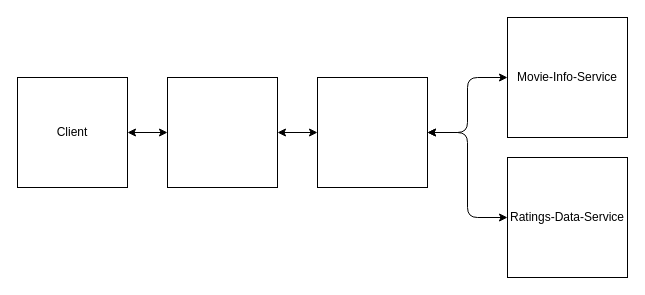
This 645x295 diagram has some shape labels left out. The box of each missing label's shape, as (x1, y1, x2, y2) in pixels:
Discovery-Server (Eureka): (166, 76, 278, 188)
Movie-Catalog-Service: (316, 76, 428, 188)
